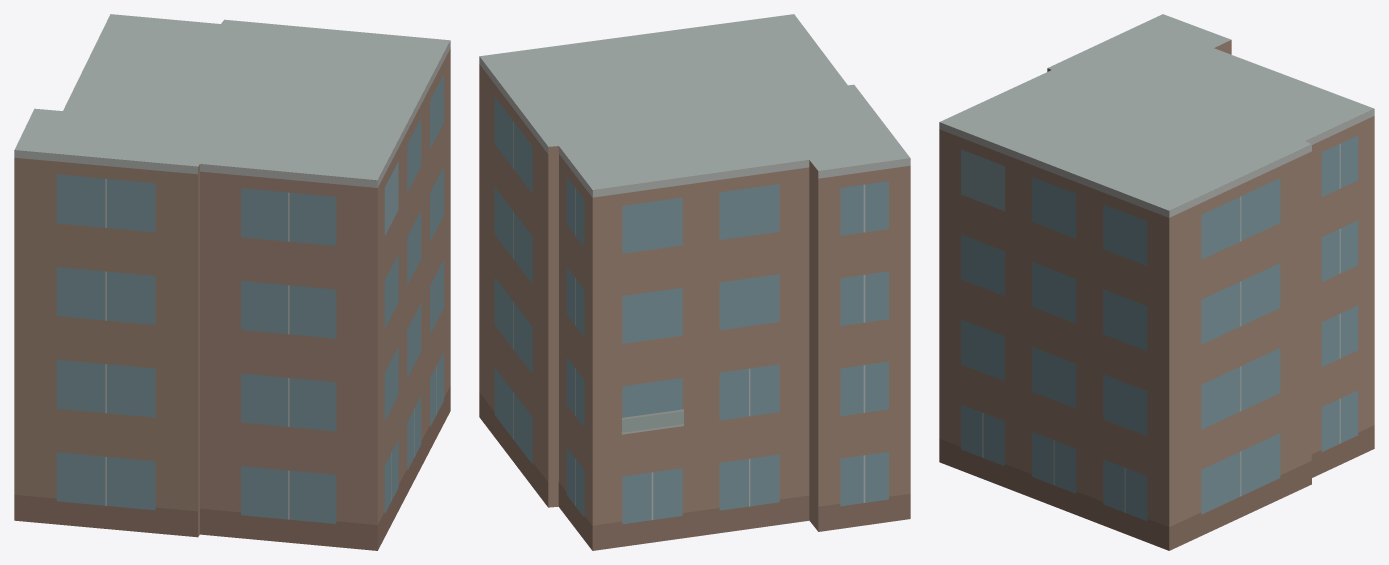
The model's file is survey-upis-32524444.glb.
3 renders of one model, left to right at view 1: azimuth 30°, elevation 25°; view 2: azimuth 150°, elevation 25°; view 3: azimuth 270°, elevation 25°, orthographic. The views are drawn at different scales.
Parts seen in each view (by area): view 1: survey-upis-32524444.tmp; view 2: survey-upis-32524444.tmp; view 3: survey-upis-32524444.tmp.
Part boxes in pixels (left/top/right/bottom): survey-upis-32524444.tmp: left=14, top=14, right=450, bottom=550; survey-upis-32524444.tmp: left=479, top=14, right=910, bottom=550; survey-upis-32524444.tmp: left=939, top=14, right=1374, bottom=550.
Size of the model in its own units: 14.53 by 11.7 by 13.58.
